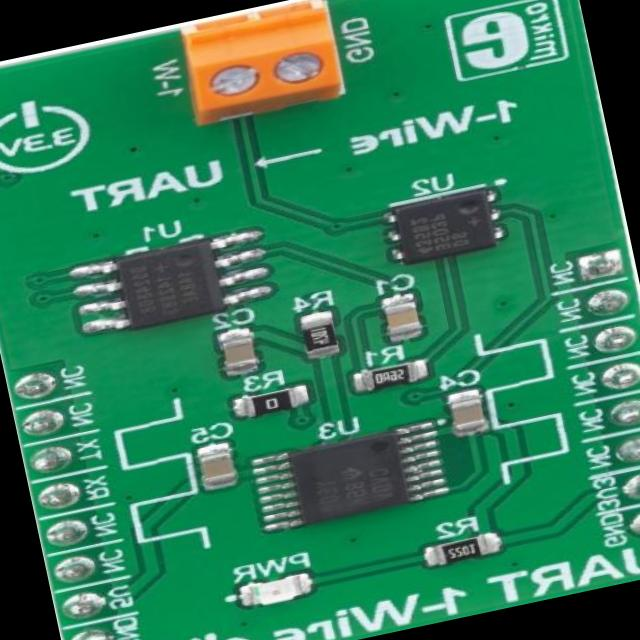IC: (256, 426, 442, 534), (88, 234, 254, 330), (385, 186, 500, 264)
LED: (243, 574, 312, 610)
capacitor: (190, 442, 239, 488), (218, 329, 259, 377), (380, 296, 422, 340), (446, 392, 482, 430)
connector: (174, 2, 338, 121)
resistor: (425, 534, 488, 566), (358, 360, 424, 390), (246, 388, 306, 416), (304, 312, 339, 355)
